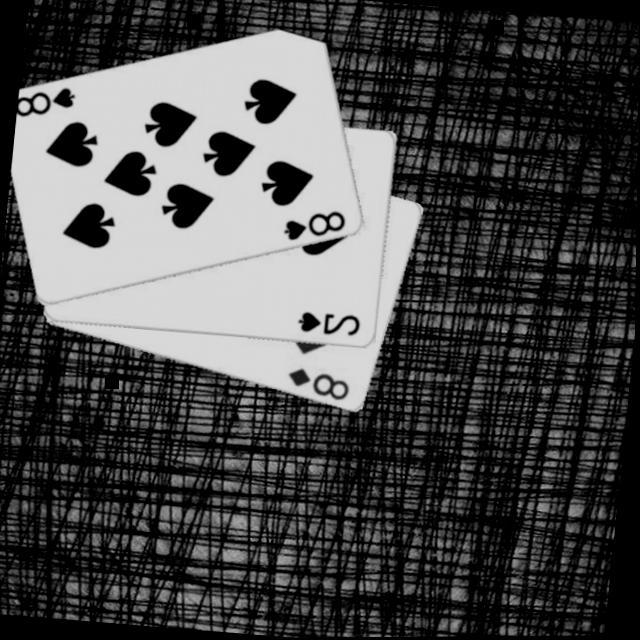2S: (292, 306, 362, 341)
8D: (282, 362, 354, 404)
8S: (277, 202, 349, 248), (15, 80, 79, 122)
